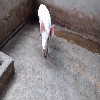heo: (35, 3, 56, 58)
